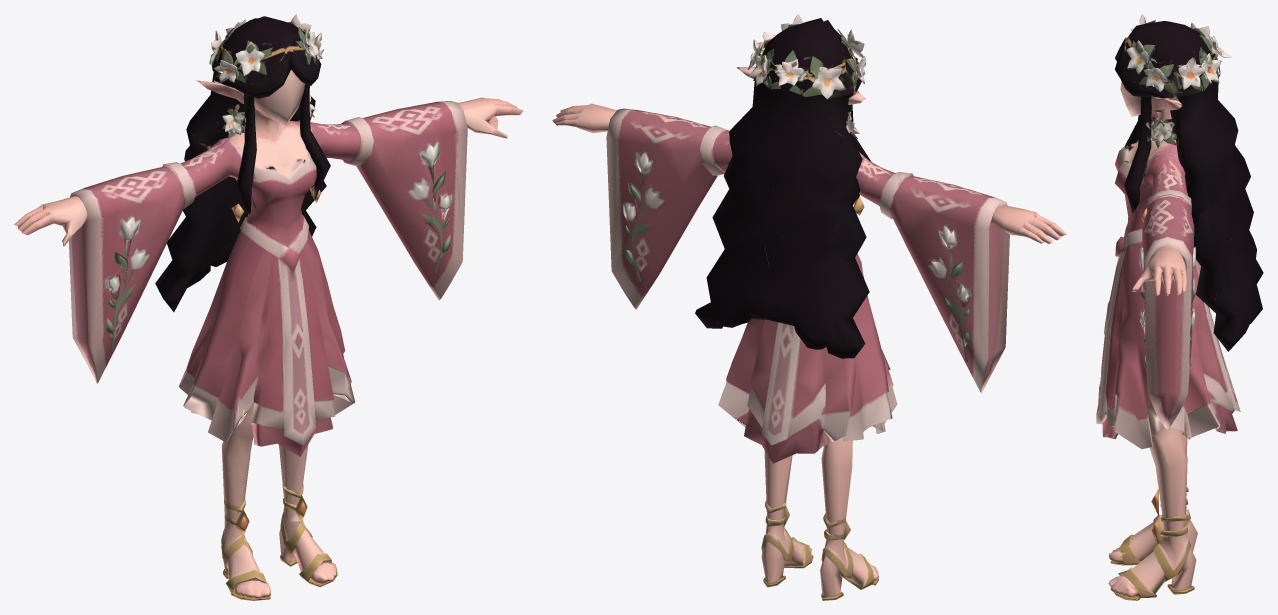
Rendered from Meshy_AI_Blossom_Elf_Maiden_1018164013_texture.fbx.
3 views of the same model, side by side, from view 1: azimuth 30°, elevation 25°; view 2: azimuth 150°, elevation 25°; view 3: azimuth 270°, elevation 25° (orthographic).
Visible parts, largest first — view 1: Mesh_0; view 2: Mesh_0; view 3: Mesh_0.
Boxes of the visible parts, box(x1,y1,x2,y2) form: Mesh_0: box(14, 14, 523, 600); Mesh_0: box(552, 14, 1067, 600); Mesh_0: box(1096, 14, 1263, 600).
Size of the model in its own units: 90.58 by 95.07 by 26.12.
1 material, 1 textured.
